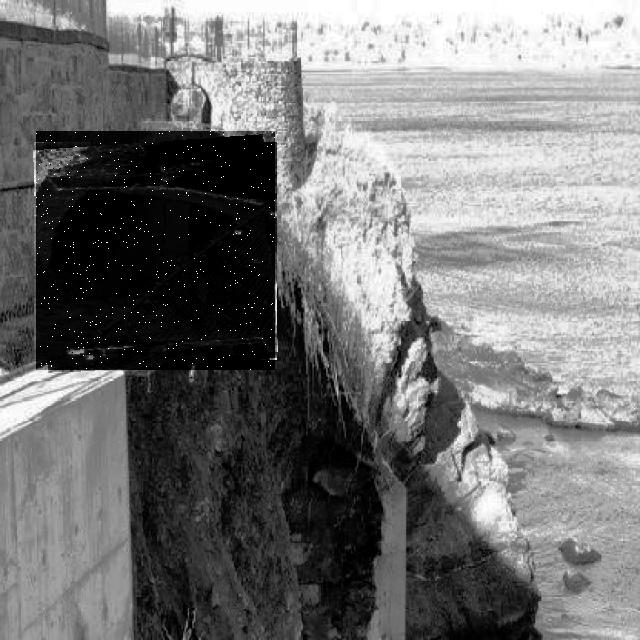anomaly-fence: (36, 131, 275, 370)
